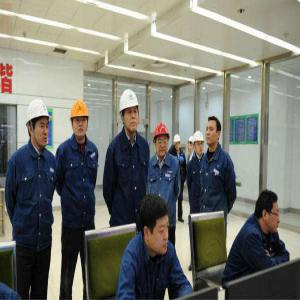none: (140, 193, 170, 258), (256, 189, 282, 236), (205, 115, 223, 148)
red: (154, 121, 171, 158)
white: (27, 98, 51, 149), (119, 88, 139, 136), (194, 131, 206, 158), (174, 133, 182, 151), (188, 137, 195, 155)
yellow: (70, 99, 90, 139)
